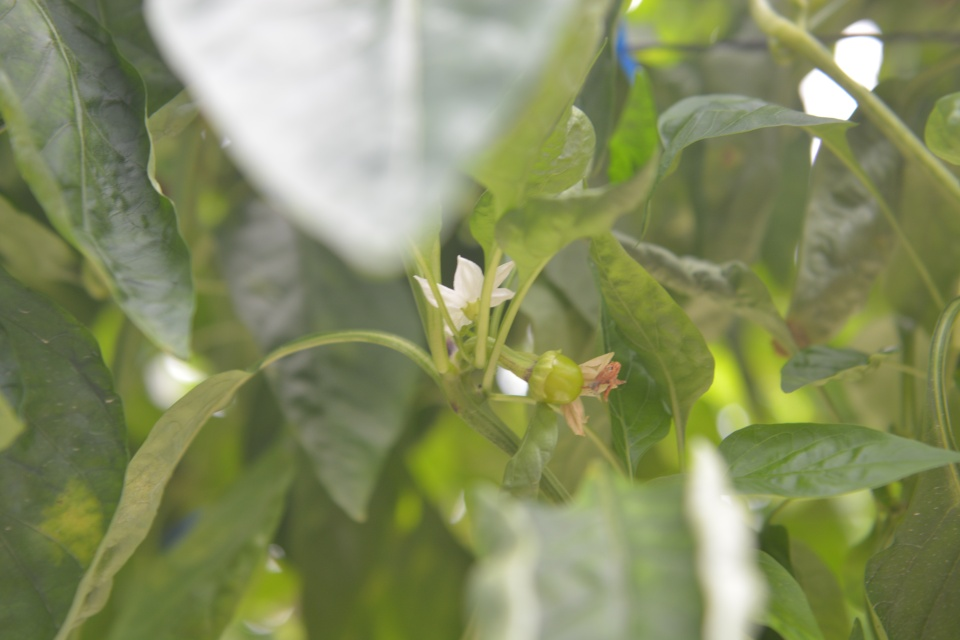flower: (410, 253, 519, 339)
